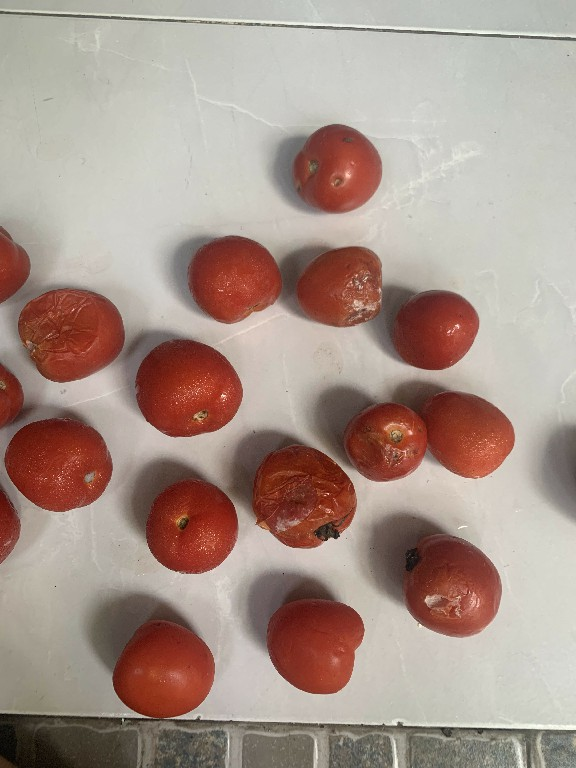NG: (10, 282, 128, 388), (246, 438, 353, 550), (400, 531, 506, 637), (285, 119, 385, 214), (294, 242, 387, 334), (344, 392, 429, 484)
OK: (0, 408, 121, 519), (131, 332, 243, 439), (104, 617, 216, 722), (262, 595, 363, 700), (421, 379, 520, 484), (141, 472, 237, 580), (180, 230, 285, 326), (390, 283, 480, 375)
